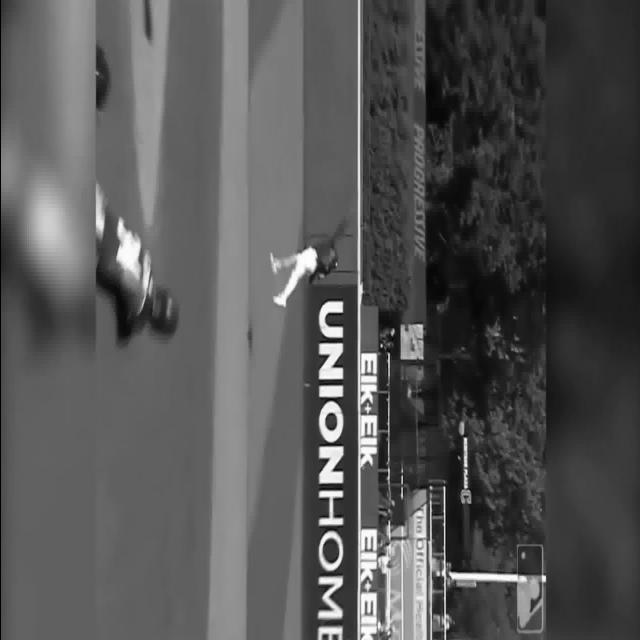shoe: (272, 293, 286, 307), (269, 252, 277, 274)
